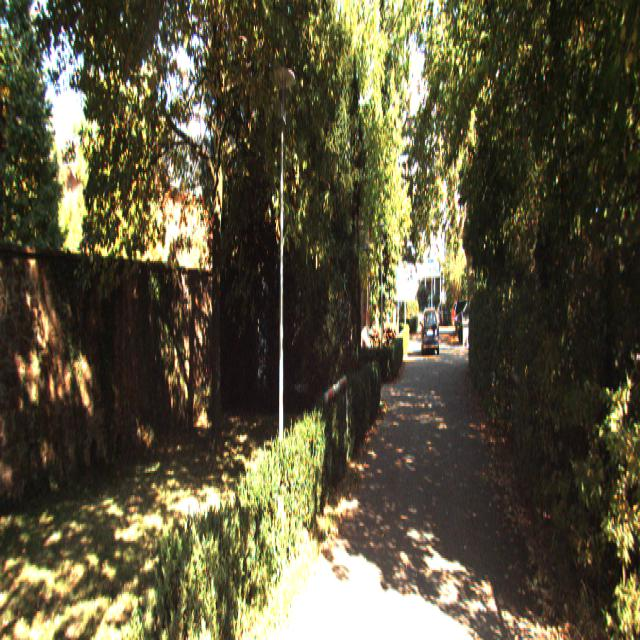Car: (422, 306, 440, 356)
